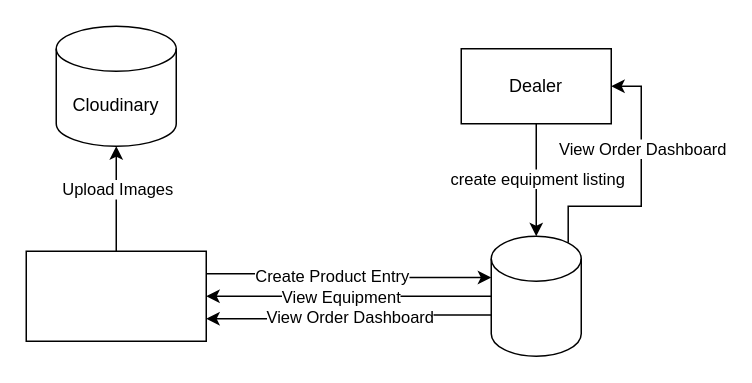
The diagram is 752 pixels wide and 383 high, and some of its shapes have lost their labels. The centre of each missing label's shape, as x and y in pixels:
Farmer: (x=115, y=295)
MongoDB: (x=535, y=295)
